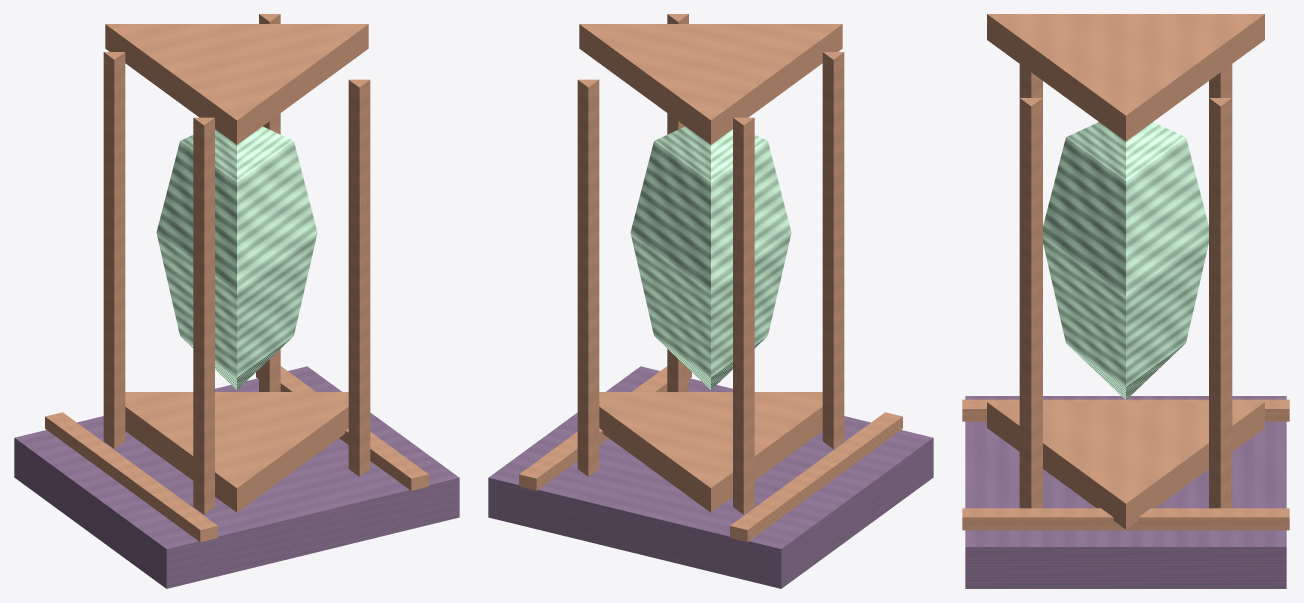
The model's file is atlas100-s083-a01.lod2.glb.
The picture shows the model from 3 angles, left to right: view 1: azimuth 30°, elevation 25°; view 2: azimuth 150°, elevation 25°; view 3: azimuth 270°, elevation 25°; orthographic projection. The views are drawn at different scales.
Parts seen in each view (by area): view 1: atlas100-s083-a01:part-000, atlas100-s083-a01:part-013, atlas100-s083-a01:part-004, atlas100-s083-a01:part-003, atlas100-s083-a01:part-005, atlas100-s083-a01:part-009, atlas100-s083-a01:part-007, atlas100-s083-a01:part-001, atlas100-s083-a01:part-002, atlas100-s083-a01:part-011; view 2: atlas100-s083-a01:part-000, atlas100-s083-a01:part-013, atlas100-s083-a01:part-004, atlas100-s083-a01:part-003, atlas100-s083-a01:part-011, atlas100-s083-a01:part-007, atlas100-s083-a01:part-009, atlas100-s083-a01:part-001, atlas100-s083-a01:part-002, atlas100-s083-a01:part-005; view 3: atlas100-s083-a01:part-013, atlas100-s083-a01:part-000, atlas100-s083-a01:part-004, atlas100-s083-a01:part-003, atlas100-s083-a01:part-005, atlas100-s083-a01:part-011, atlas100-s083-a01:part-002, atlas100-s083-a01:part-001, atlas100-s083-a01:part-007, atlas100-s083-a01:part-009.
Boxes of the visible parts, left/top/right/bottom form: atlas100-s083-a01:part-000: left=14, top=366, right=459, bottom=588; atlas100-s083-a01:part-013: left=156, top=126, right=317, bottom=389; atlas100-s083-a01:part-004: left=105, top=24, right=368, bottom=144; atlas100-s083-a01:part-003: left=125, top=392, right=348, bottom=512; atlas100-s083-a01:part-005: left=348, top=79, right=370, bottom=476; atlas100-s083-a01:part-009: left=103, top=52, right=125, bottom=448; atlas100-s083-a01:part-007: left=193, top=117, right=214, bottom=514; atlas100-s083-a01:part-001: left=45, top=412, right=217, bottom=542; atlas100-s083-a01:part-002: left=256, top=366, right=428, bottom=490; atlas100-s083-a01:part-011: left=259, top=14, right=280, bottom=391; atlas100-s083-a01:part-000: left=488, top=366, right=933, bottom=588; atlas100-s083-a01:part-013: left=630, top=126, right=791, bottom=389; atlas100-s083-a01:part-004: left=579, top=24, right=842, bottom=144; atlas100-s083-a01:part-003: left=599, top=392, right=822, bottom=512; atlas100-s083-a01:part-011: left=577, top=79, right=599, bottom=476; atlas100-s083-a01:part-007: left=822, top=52, right=844, bottom=448; atlas100-s083-a01:part-009: left=733, top=117, right=754, bottom=514; atlas100-s083-a01:part-001: left=730, top=412, right=902, bottom=542; atlas100-s083-a01:part-002: left=519, top=366, right=691, bottom=490; atlas100-s083-a01:part-005: left=667, top=14, right=688, bottom=391; atlas100-s083-a01:part-013: left=1043, top=122, right=1208, bottom=399; atlas100-s083-a01:part-000: left=965, top=396, right=1286, bottom=588; atlas100-s083-a01:part-004: left=987, top=14, right=1264, bottom=141; atlas100-s083-a01:part-003: left=987, top=402, right=1264, bottom=529; atlas100-s083-a01:part-005: left=1019, top=98, right=1042, bottom=508; atlas100-s083-a01:part-011: left=1209, top=98, right=1232, bottom=508; atlas100-s083-a01:part-002: left=962, top=508, right=1289, bottom=530; atlas100-s083-a01:part-001: left=962, top=399, right=1289, bottom=421; atlas100-s083-a01:part-007: left=1019, top=64, right=1042, bottom=97; atlas100-s083-a01:part-009: left=1209, top=64, right=1232, bottom=97.
Bounding box in the file's own units: 2 × 2.88 × 1.84.
Materials: 3 (3 with a texture image).
